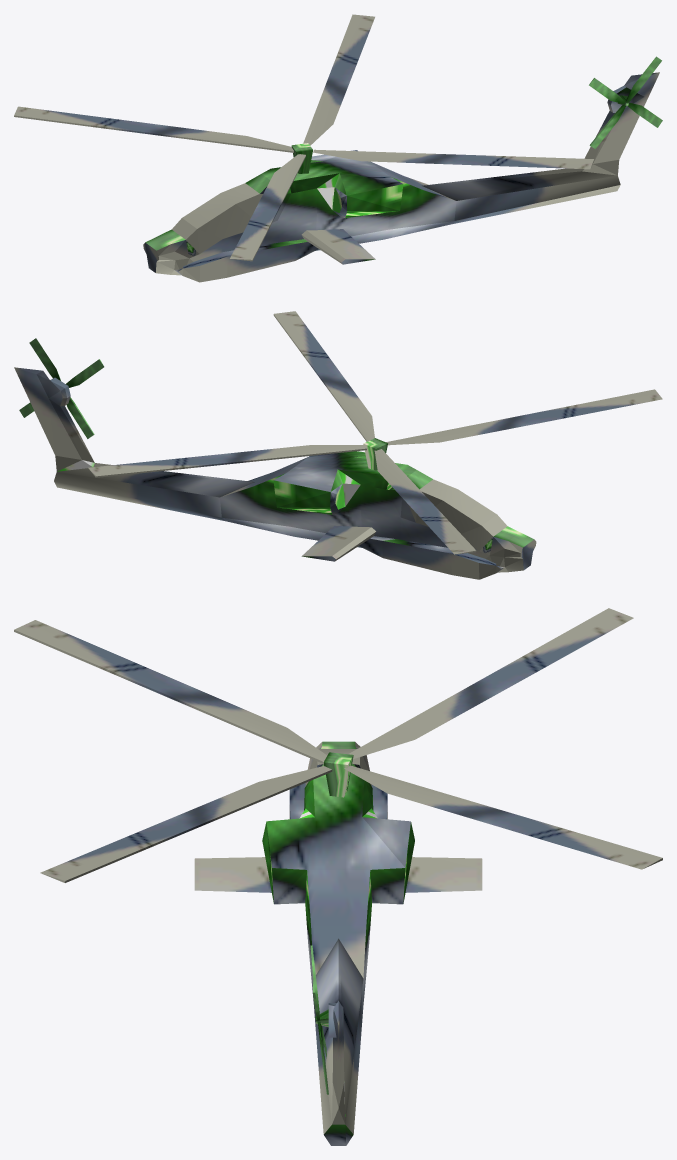
The model's file is Icon.ico.obj.
3 views of the same model, one above another, from view 1: azimuth 30°, elevation 25°; view 2: azimuth 150°, elevation 25°; view 3: azimuth 270°, elevation 25° (orthographic). The views are drawn at different scales.
Bounding box in the file's own units: 4.18 × 0.9514 × 2.97.
